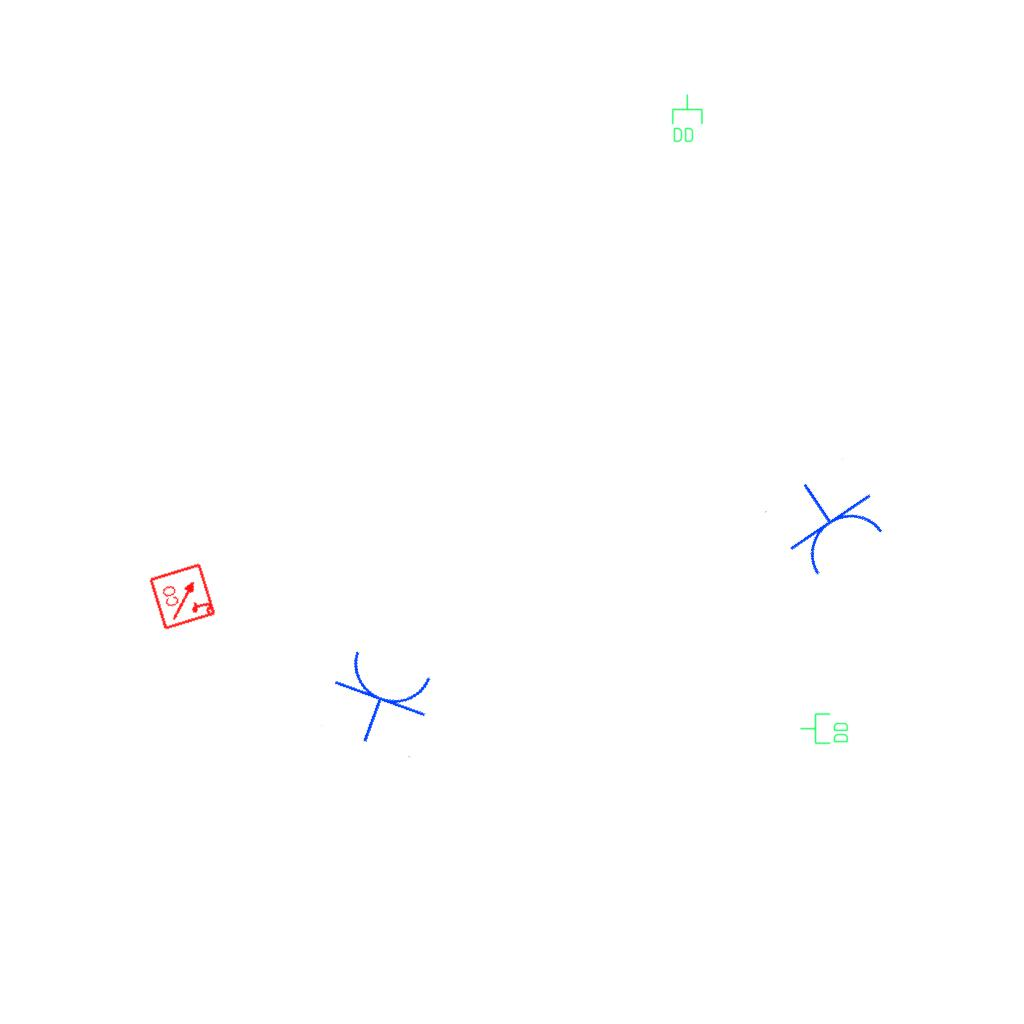Datenanschluss_zweifach: (799, 712, 850, 746), (670, 93, 704, 144)
ROA_Rauchmelder_optisch_mit_Signalgeber_(Sockelsirene): (148, 561, 218, 631)
Schukosteckdose_einfach: (762, 456, 894, 585), (318, 643, 442, 760)
